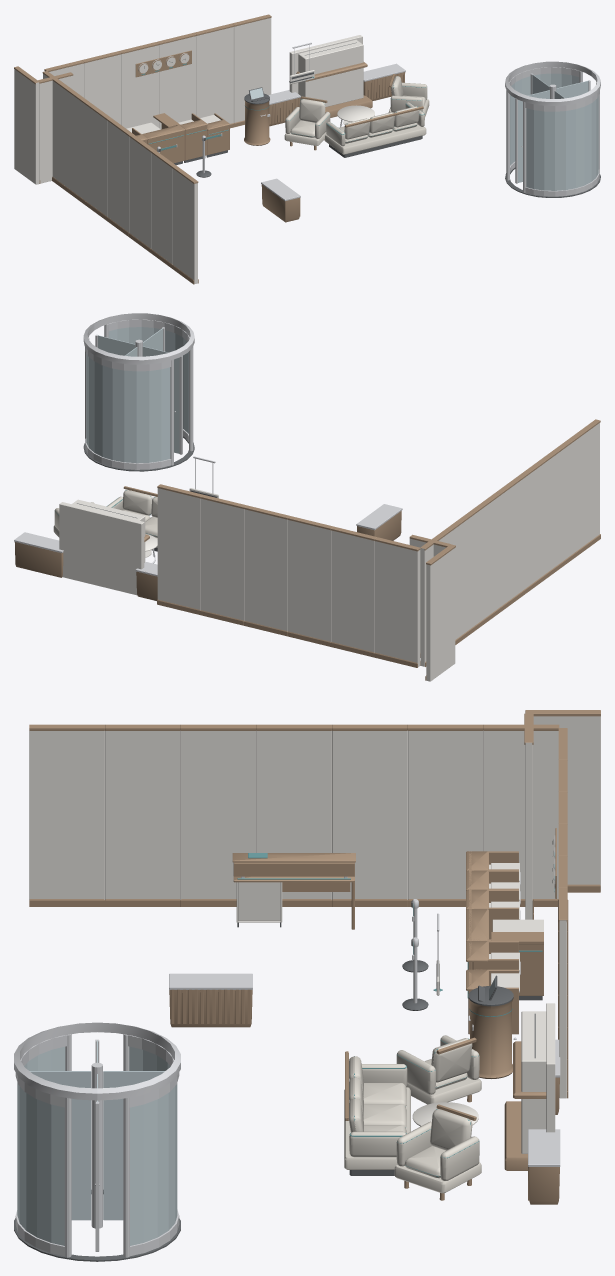
File: hotel-lobby-light.glb
The picture shows the model from 3 angles, top to bottom: view 1: azimuth 30°, elevation 25°; view 2: azimuth 150°, elevation 25°; view 3: azimuth 270°, elevation 25°; orthographic projection. The views are drawn at different scales.
Visible parts, largest first — view 1: 046-revolving-door-module0, 013-partition-wall-corner0, 033-lobby-fireplace-feature0, 046-revolving-door-module1, 004-partition-wall-module0, 005-partition-wall-module0, 036-lobby-sofa2, 002-partition-wall-module0, 003-partition-wall-module0, 012-partition-wall-module0, 010-partition-wall-module0, 007-partition-wall-module0 (+22 smaller); view 2: 046-revolving-door-module0, 033-lobby-fireplace-feature0, 000-partition-wall-module0, 002-partition-wall-module0, 046-revolving-door-module1, 003-partition-wall-module0, 001-partition-wall-module0, 004-partition-wall-module0, 005-partition-wall-module0, 013-partition-wall-corner0, 008-partition-wall-module0, 012-partition-wall-module0 (+18 smaller); view 3: 046-revolving-door-module0, 011-partition-wall-module0, 012-partition-wall-module0, 007-partition-wall-module0, 010-partition-wall-module0, 008-partition-wall-module0, 046-revolving-door-module1, 006-partition-wall-module0, 009-partition-wall-module0, 013-partition-wall-corner0, 036-lobby-sofa2, 039-lobby-armchair1 (+30 smaller).
Boxes of the visible parts, box(x1,y1,x2,y2) form: 046-revolving-door-module0: box(510, 73, 598, 190); 013-partition-wall-corner0: box(14, 69, 73, 184); 033-lobby-fireplace-feature0: box(289, 35, 363, 107); 046-revolving-door-module1: box(505, 61, 600, 196); 004-partition-wall-module0: box(196, 27, 233, 123); 005-partition-wall-module0: box(234, 18, 271, 122); 036-lobby-sofa2: box(325, 102, 426, 154); 002-partition-wall-module0: box(121, 45, 158, 128); 003-partition-wall-module0: box(159, 36, 196, 129); 012-partition-wall-module0: box(173, 169, 197, 284); 010-partition-wall-module0: box(129, 137, 151, 248); 007-partition-wall-module0: box(64, 89, 86, 200); 046-revolving-door-module0: box(86, 327, 188, 463); 033-lobby-fireplace-feature0: box(59, 499, 145, 595); 000-partition-wall-module0: box(374, 541, 420, 667); 002-partition-wall-module0: box(287, 520, 331, 641); 046-revolving-door-module1: box(83, 313, 194, 469); 003-partition-wall-module0: box(244, 509, 287, 631); 001-partition-wall-module0: box(331, 530, 374, 652); 004-partition-wall-module0: box(201, 498, 244, 620); 005-partition-wall-module0: box(157, 488, 200, 610); 013-partition-wall-corner0: box(409, 538, 455, 681); 008-partition-wall-module0: box(474, 496, 499, 625); 012-partition-wall-module0: box(575, 423, 599, 552); 046-revolving-door-module0: box(17, 1046, 177, 1245); 011-partition-wall-module0: box(105, 731, 180, 899); 012-partition-wall-module0: box(29, 731, 104, 899); 007-partition-wall-module0: box(408, 730, 483, 899); 010-partition-wall-module0: box(180, 731, 256, 899); 008-partition-wall-module0: box(332, 730, 407, 899); 046-revolving-door-module1: box(14, 1022, 180, 1257); 006-partition-wall-module0: box(483, 731, 558, 898); 009-partition-wall-module0: box(256, 731, 331, 899); 013-partition-wall-corner0: box(525, 716, 600, 919); 036-lobby-sofa2: box(344, 1056, 410, 1169); 039-lobby-armchair1: box(394, 1109, 481, 1193).
Size of the model in its own units: 11.67 by 2.6 by 7.75.
